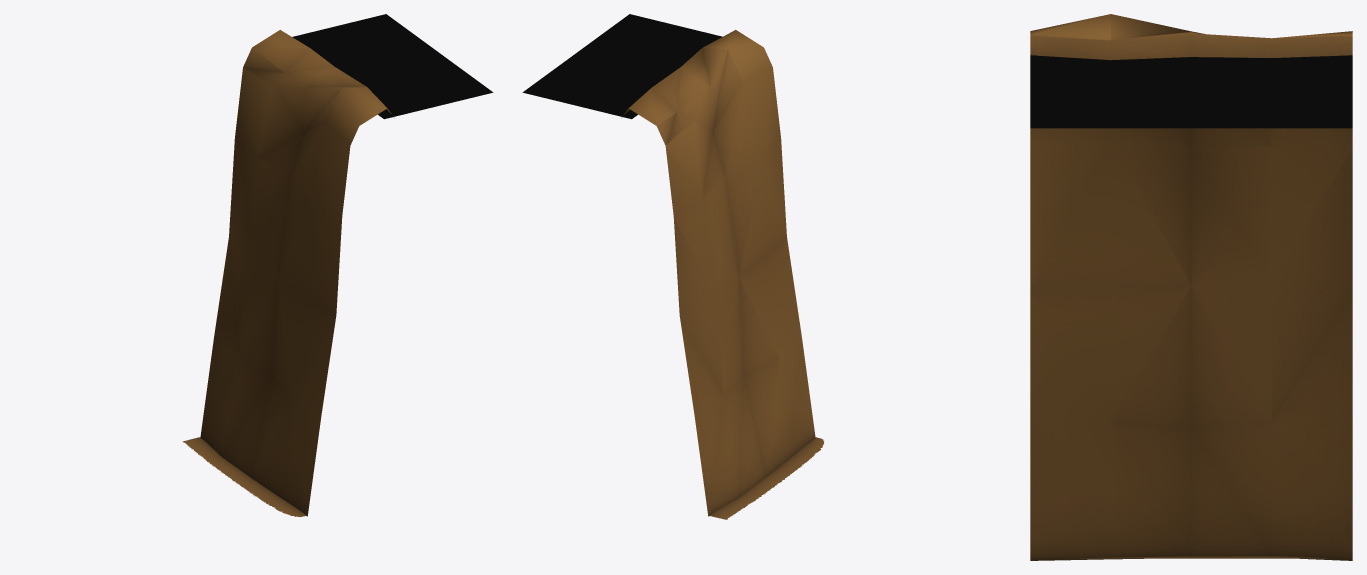
Rendered from Wall.FBX.
The picture shows the model from 3 angles, left to right: view 1: azimuth 30°, elevation 25°; view 2: azimuth 150°, elevation 25°; view 3: azimuth 270°, elevation 25°; orthographic projection. The views are drawn at different scales.
Parts seen in each view (by area): view 1: Object038; view 2: Object038; view 3: Object038.
Part boxes in pixels (<box>): Object038: <box>182,14,493,516</box>; Object038: <box>522,14,823,519</box>; Object038: <box>1030,14,1352,560</box>.
Size of the model in its own units: 118 by 120 by 59.06.
